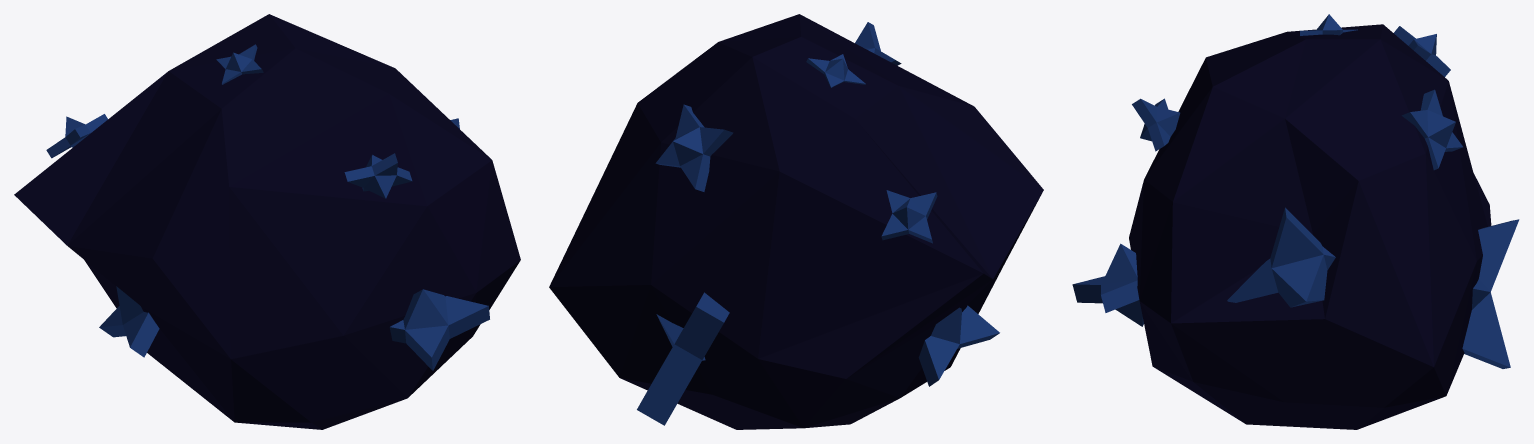
Rendered from AsteroidCrystal.fbx.
The picture shows the model from 3 angles, left to right: view 1: azimuth 30°, elevation 25°; view 2: azimuth 150°, elevation 25°; view 3: azimuth 270°, elevation 25°; orthographic projection. The views are drawn at different scales.
Parts seen in each view (by area): view 1: Icosphere, Cube; view 2: Icosphere, Cube; view 3: Icosphere, Cube.
Boxes of the visible parts, x1,y1,x2,y2 form: Icosphere: (14, 14, 520, 429); Cube: (46, 44, 489, 370); Icosphere: (549, 14, 1043, 429); Cube: (637, 22, 999, 425); Icosphere: (1129, 24, 1491, 429); Cube: (1072, 14, 1519, 368).
Bounding box in the file's own units: 274 × 234 × 253.
